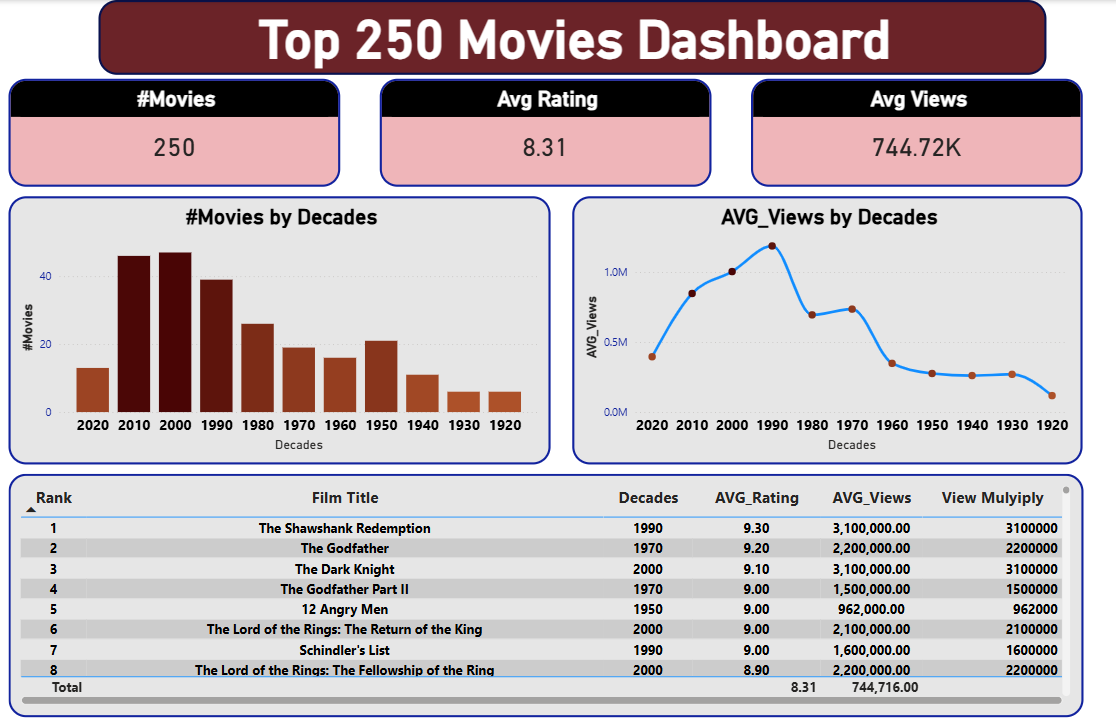

The page's visual inventory and layout, read from the dashboard file:
{"tool":"powerbi","page":{"name":"Dashboard","canvas":[1280,820],"ordinal":0},"visuals":[{"type":"card","title":"#Movies","fields":{"Values":["Sheet1.#Movies"]},"box":[25.1,89.1,376,122.1],"z":0},{"type":"card","title":"Avg Rating","fields":{"Values":["Sheet1.AVG_Rating"]},"box":[446,89.1,376,122.1],"z":1000},{"type":"card","title":"Avg Views","fields":{"Values":["Sheet1.AVG_Views"]},"box":[866.8,88.6,376,122.1],"z":2000},{"type":"clusteredColumnChart","fields":{"Category":["Sheet1.Decades"],"Y":["Sheet1.#Movies"]},"box":[25.1,221.9,614.6,303.8],"z":3000},{"type":"lineChart","fields":{"Y":["Sheet1.AVG_Views"],"Category":["Sheet1.Decades"]},"box":[664.8,221.9,578.4,303.8],"z":4000},{"type":"tableEx","fields":{"Values":["Sheet1.Rank","Sheet1.Film Title","Sheet1.Decades","Sheet1.AVG_Rating","Sheet1.AVG_Views","Sheet1.View Mulyiply"]},"box":[25.1,536.5,1218,275.9],"z":5000},{"type":"textbox","title":"Top 250 Movies Dashboard","box":[126.8,0,1074.5,85],"z":6000}]}

Visuals, with their boxes in screenshot pixels (x1, y1, x2, y2), scaled from the page's 1280x820 canvas onto the 1116x720 screenshot:
"#Movies" card: {"left": 22, "top": 78, "right": 350, "bottom": 185}
"Avg Rating" card: {"left": 389, "top": 78, "right": 717, "bottom": 185}
"Avg Views" card: {"left": 756, "top": 78, "right": 1084, "bottom": 185}
clusteredColumnChart - Sheet1.Decades x Sheet1.#Movies: {"left": 22, "top": 195, "right": 558, "bottom": 462}
lineChart - Sheet1.AVG_Views x Sheet1.Decades: {"left": 580, "top": 195, "right": 1084, "bottom": 462}
tableEx - Sheet1.Rank x Sheet1.Film Title: {"left": 22, "top": 471, "right": 1084, "bottom": 713}
"Top 250 Movies Dashboard" textbox: {"left": 111, "top": 0, "right": 1047, "bottom": 75}
